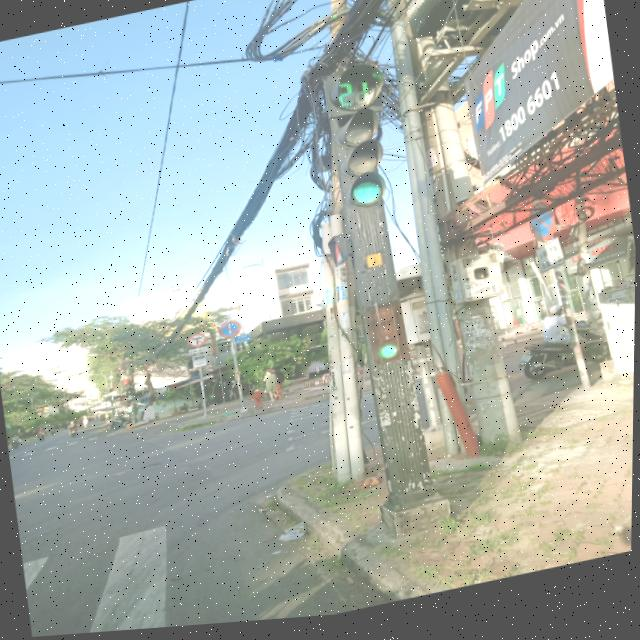Green: (322, 110, 395, 224), (359, 301, 419, 373)
